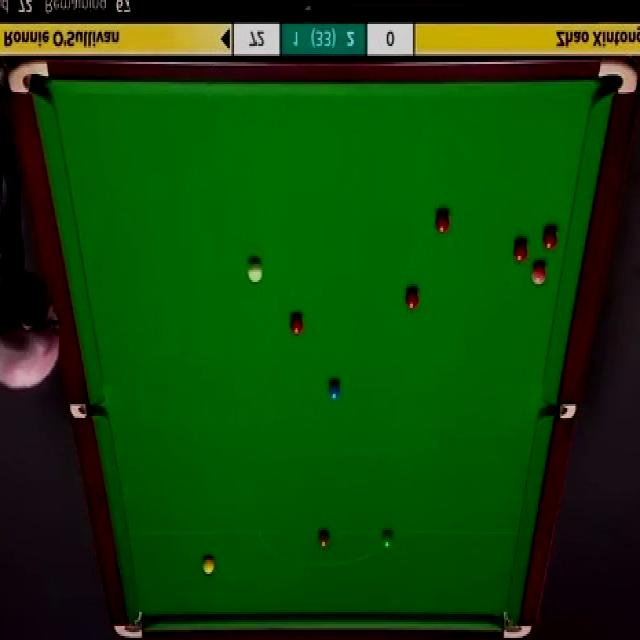pocket: (596, 57, 640, 97), (5, 58, 49, 96), (112, 608, 145, 640), (501, 610, 530, 638), (541, 403, 575, 420), (65, 403, 104, 417)
